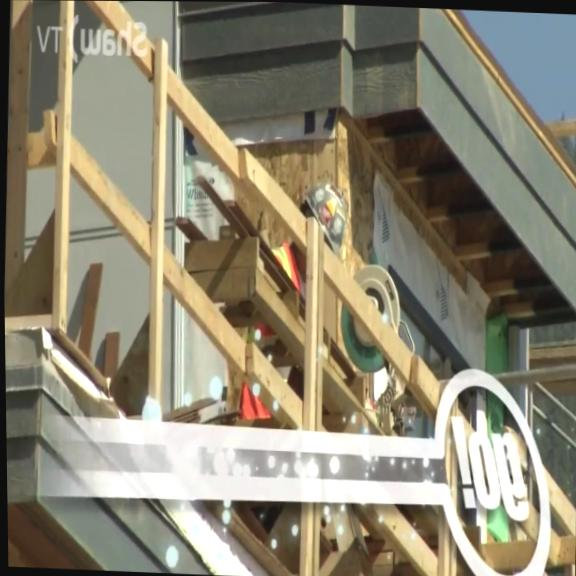safety_vest: (237, 239, 305, 426)
